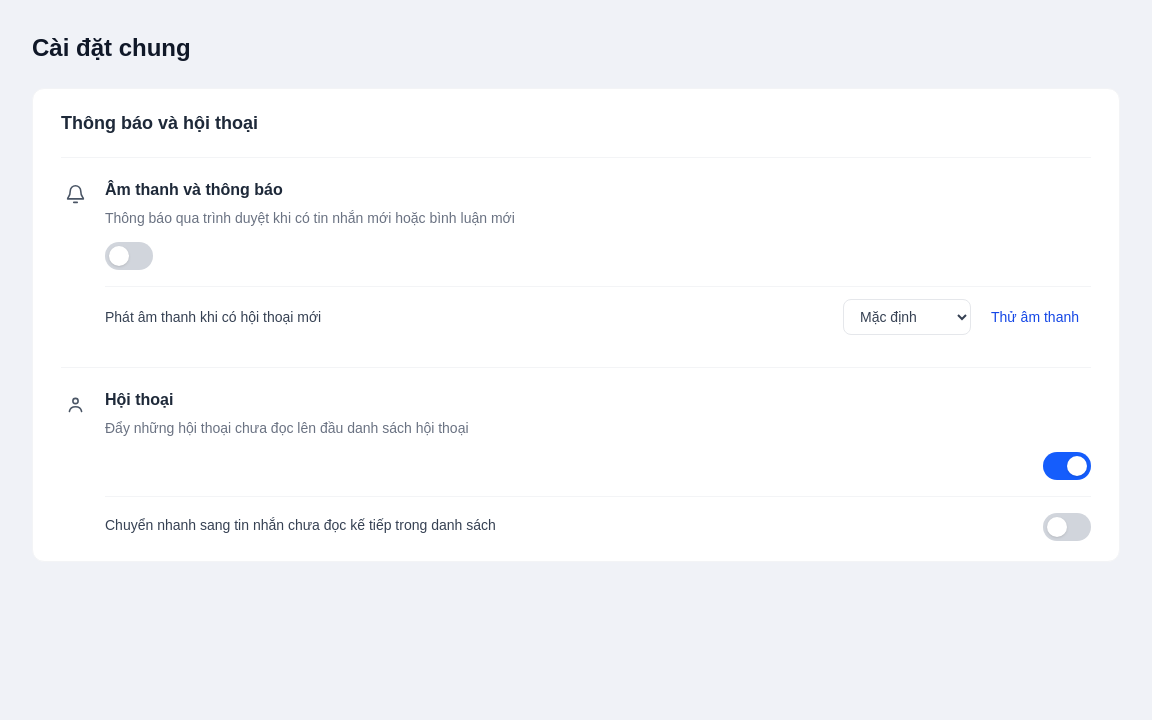
GeneralSettingsPanel › shows the accurate notification warning when permission is unavailable
Click the switch named "Thông báo khi có tin nhắn hoặc bình luận mới" at (129, 256), box [105, 242, 153, 270]
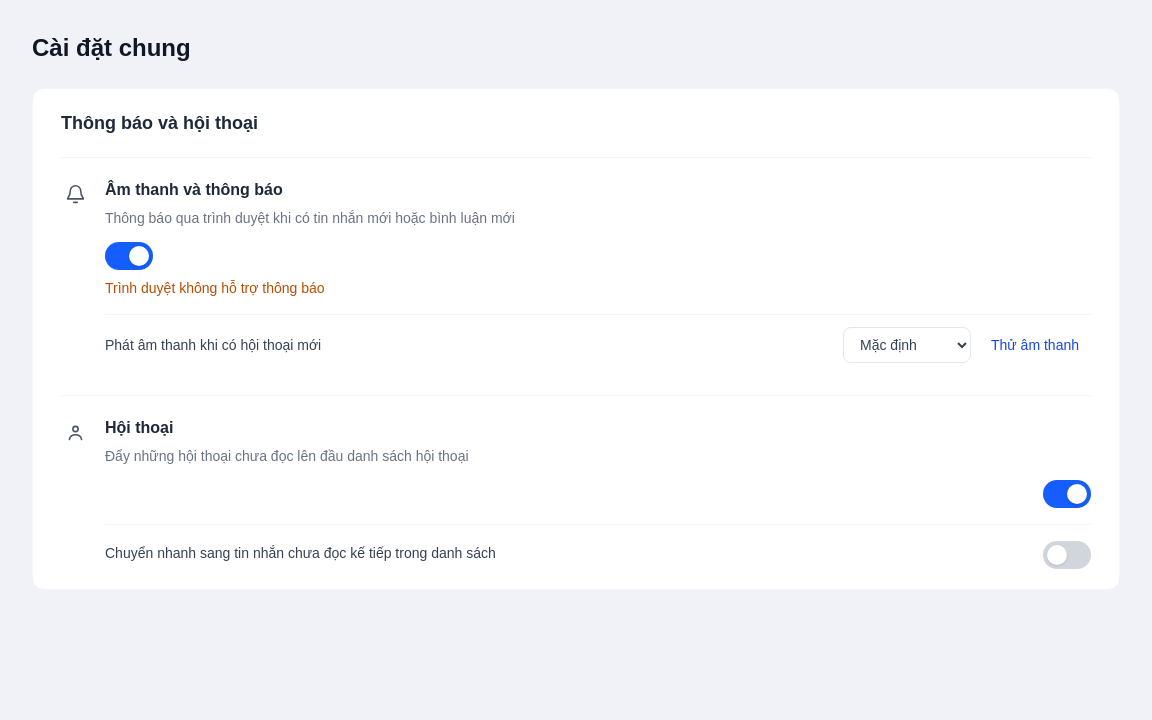
Check: the text "Trình duyệt không hỗ trợ thông báo" is shown, box [105, 280, 325, 296]
